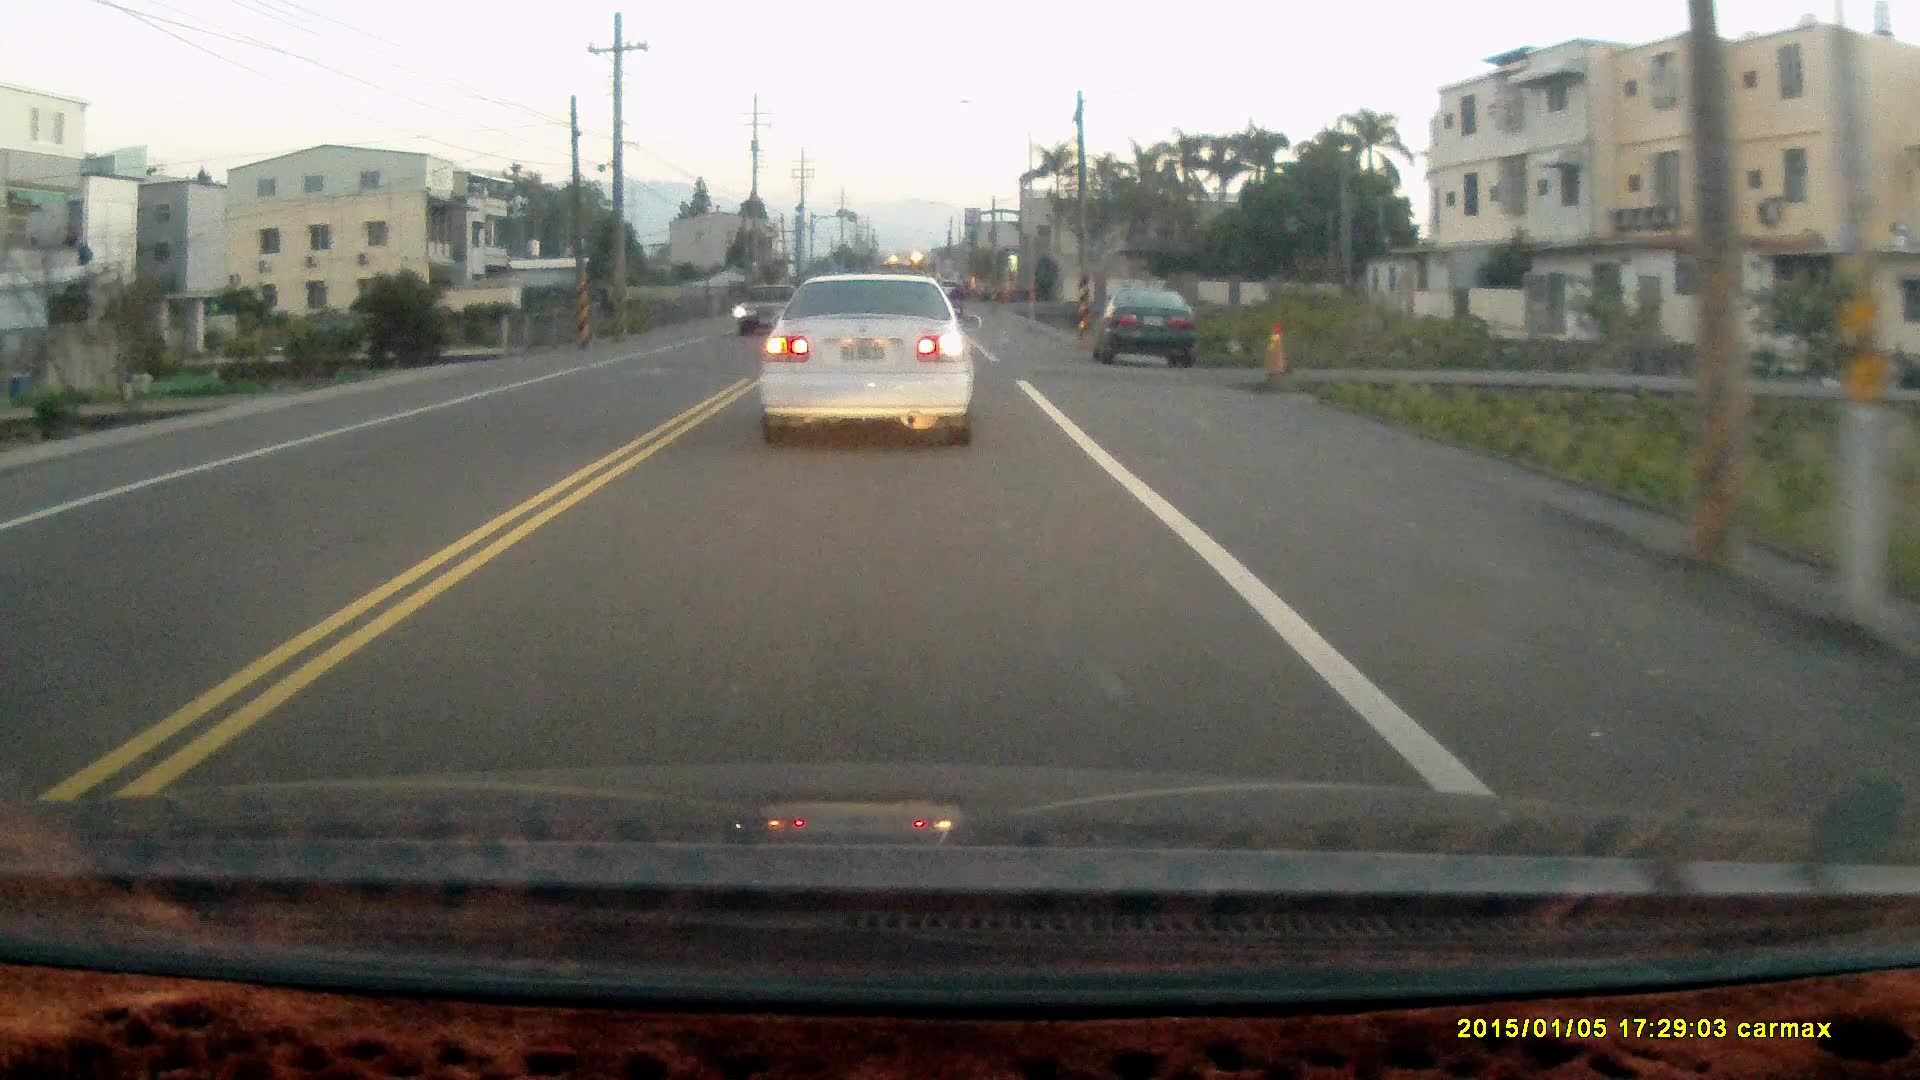vehicle: (756, 272, 975, 454), (1095, 290, 1197, 372), (735, 284, 798, 340)
